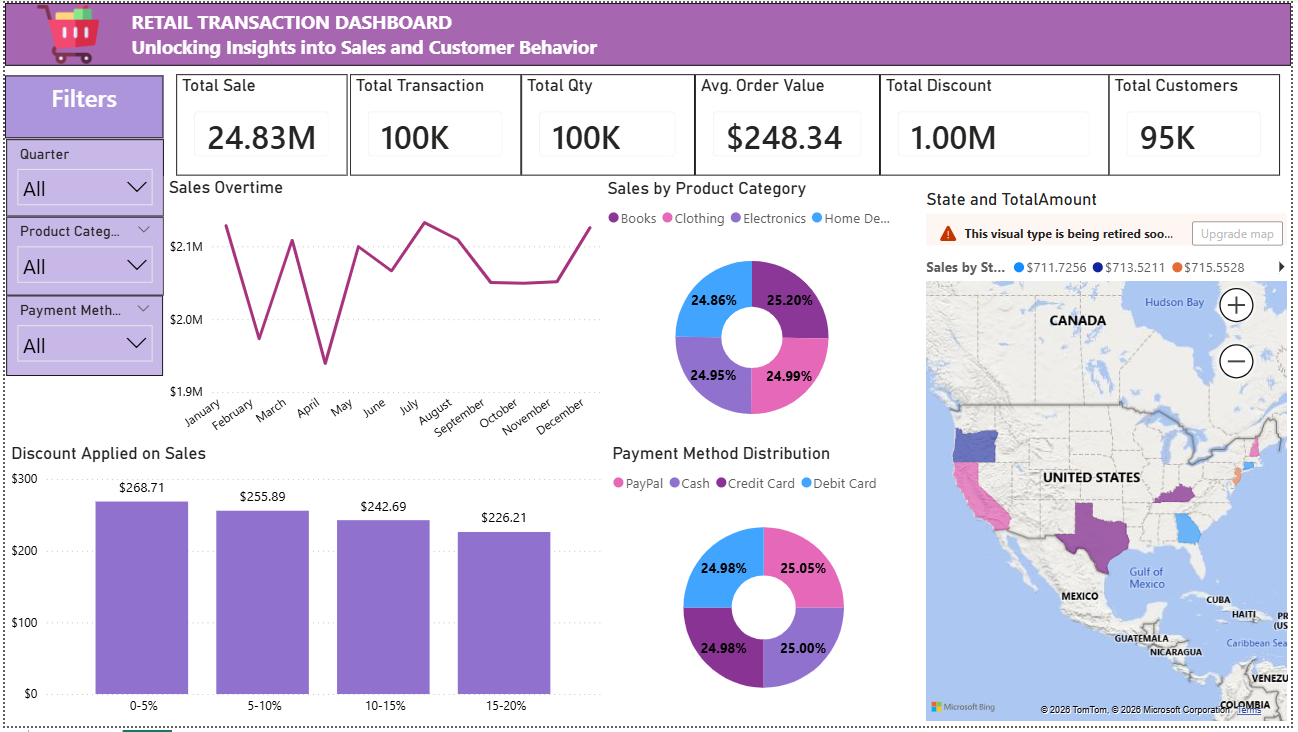

This screenshot's page, from the dashboard's own definition file:
{"tool":"powerbi","page":{"name":"Page 1","canvas":[1280,720],"ordinal":0},"visuals":[{"type":"textbox","box":[0,0,1280,62.2],"z":0},{"type":"slicer","fields":{"Values":["Retail_Transaction_Dataset.TransactionDate.Variation.Date Hierarchy.Quarter"]},"box":[1.2,135,157.5,77.5],"z":1000},{"type":"image","box":[0,0,125.6,62.2],"z":2000},{"type":"slicer","fields":{"Values":["Retail_Transaction_Dataset.ProductCategory"]},"box":[1.2,212.5,156.2,78.8],"z":3000},{"type":"cardVisual","title":"Total Sale","fields":{"Data":["Sum(Retail_Transaction_Dataset.TotalAmount)"]},"box":[170.4,71.1,170.4,100.8],"z":4000,"group":"g1"},{"type":"cardVisual","title":"Total Transaction","fields":{"Data":["CountNonNull(Retail_Transaction_Dataset.TransactionID)"]},"box":[342.8,70.9,170.4,100.8],"z":5000,"group":"g1"},{"type":"slicer","fields":{"Values":["Retail_Transaction_Dataset.PaymentMethod"]},"box":[1.2,291.2,156.2,80],"z":6000},{"type":"cardVisual","title":"Total Qty","fields":{"Data":["CountNonNull(Retail_Transaction_Dataset.Quantity)"]},"box":[513.5,71.4,172.9,100.8],"z":7000,"group":"g1"},{"type":"cardVisual","title":"Avg. Order Value","fields":{"Data":["Avg(Retail_Transaction_Dataset.TotalAmount)"]},"box":[686.4,71.4,184.1,100.8],"z":8000,"group":"g1"},{"type":"cardVisual","title":"Total Discount","fields":{"Data":["Sum(Retail_Transaction_Dataset.DiscountApplied(%))"]},"box":[870.5,71.4,227.6,100.8],"z":9000,"group":"g1"},{"type":"cardVisual","title":"Total Customers","fields":{"Data":["Count(Retail_Transaction_Dataset.CustomerID)"]},"box":[1098.1,71.4,170.4,100.8],"z":10000,"group":"g1"},{"type":"textbox","box":[0,72.1,158,62.2],"z":11000},{"type":"lineChart","title":"Sales Overtime","fields":{"Y":["Sum(Retail_Transaction_Dataset.TotalAmount)"],"Category":["Retail_Transaction_Dataset.TransactionDate.Variation.Date Hierarchy.Month"]},"box":[157.5,172.5,442.5,282.5],"z":12000},{"type":"donutChart","title":"Sales by Product Category","fields":{"Category":["Retail_Transaction_Dataset.ProductCategory"],"Y":["Sum(Retail_Transaction_Dataset.TotalAmount)"]},"box":[600,173.8,287.5,263.8],"z":13000},{"type":"donutChart","title":"Payment Method Distribution","fields":{"Category":["Retail_Transaction_Dataset.PaymentMethod"],"Y":["Sum(Retail_Transaction_Dataset.TotalAmount)"]},"box":[600,437.5,311.2,278.8],"z":14000},{"type":"filledMap","fields":{"Category":["Retail_Transaction_Dataset.State"],"Series":["Retail_Transaction_Dataset.TotalAmount"]},"box":[911.2,185,368.8,535],"z":15000},{"type":"clusteredColumnChart","title":"Discount Applied on Sales","fields":{"Category":["Retail_Transaction_Dataset.Discount Range"],"Y":["Avg(Retail_Transaction_Dataset.TotalAmount)"]},"box":[1.2,437.5,598.8,280],"z":16000},{"type":"group","id":"g1","title":"Group 1","box":[170.4,70.9,1098.4,100.8],"z":16001}]}

Visuals, with their boxes in screenshot pixels (x1, y1, x2, y2), scaled from the page's 1280x720 canvas onto the 1298x732 screenshot:
textbox: select_region(0, 0, 1297, 63)
slicer - Retail_Transaction_Dataset.TransactionDate.Variation.Date Hierarchy.Quarter: select_region(1, 137, 161, 216)
image: select_region(0, 0, 127, 63)
slicer - Retail_Transaction_Dataset.ProductCategory: select_region(1, 216, 160, 296)
"Total Sale" cardVisual: select_region(173, 72, 346, 175)
"Total Transaction" cardVisual: select_region(348, 72, 520, 175)
slicer - Retail_Transaction_Dataset.PaymentMethod: select_region(1, 296, 160, 377)
"Total Qty" cardVisual: select_region(521, 73, 696, 175)
"Avg. Order Value" cardVisual: select_region(696, 73, 883, 175)
"Total Discount" cardVisual: select_region(883, 73, 1114, 175)
"Total Customers" cardVisual: select_region(1114, 73, 1286, 175)
textbox: select_region(0, 73, 160, 137)
"Sales Overtime" lineChart: select_region(160, 175, 608, 463)
"Sales by Product Category" donutChart: select_region(608, 177, 900, 445)
"Payment Method Distribution" donutChart: select_region(608, 445, 924, 728)
filledMap - Retail_Transaction_Dataset.State x Retail_Transaction_Dataset.TotalAmount: select_region(924, 188, 1297, 731)
"Discount Applied on Sales" clusteredColumnChart: select_region(1, 445, 608, 729)
"Group 1" group: select_region(173, 72, 1287, 175)
